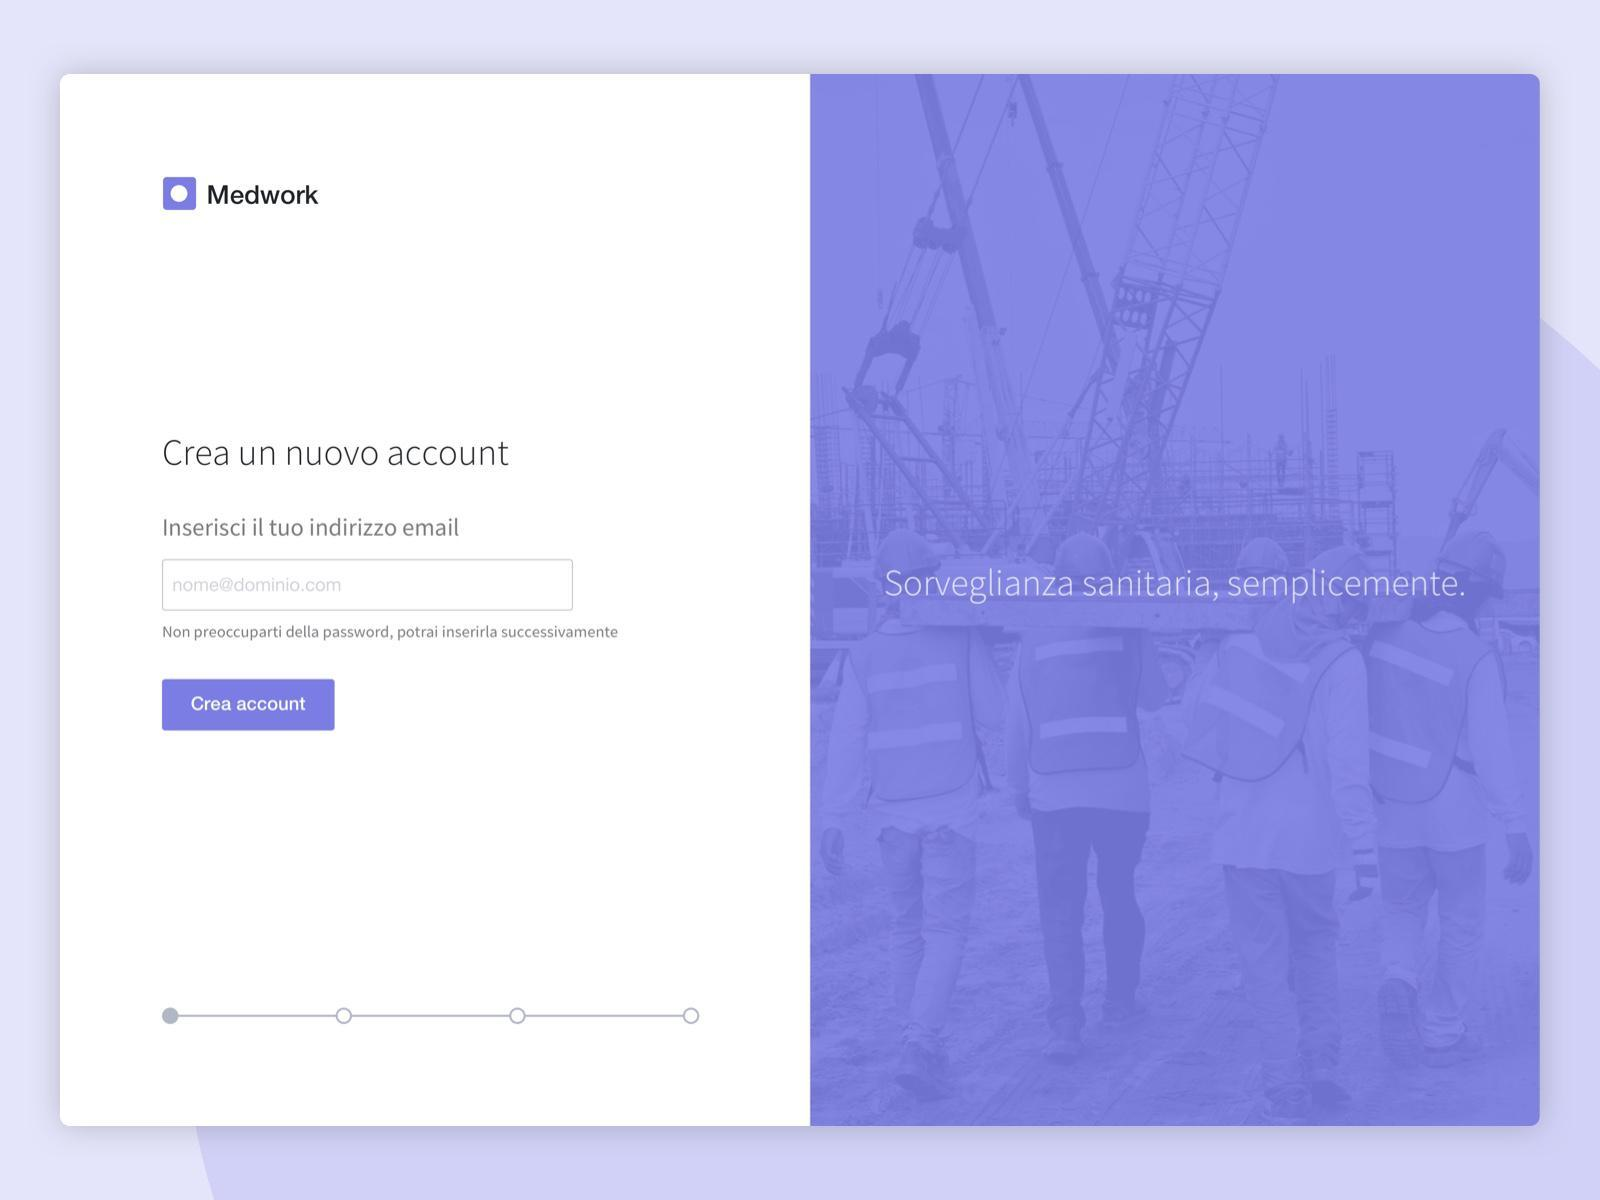button: (163, 679, 336, 731)
input: (164, 561, 574, 613)
label: (161, 512, 461, 547)
